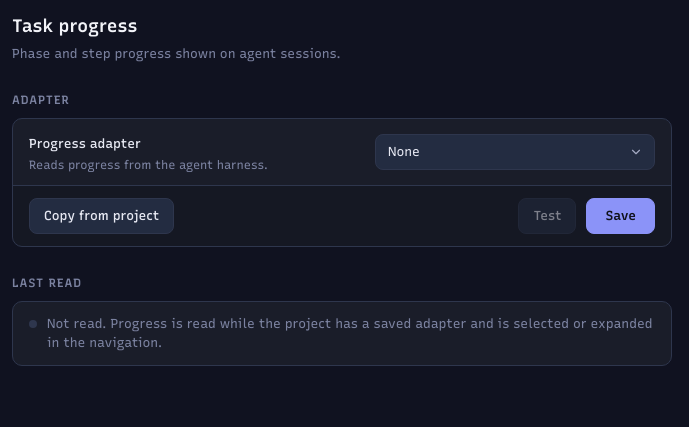
Test case: TaskProgressSettings › Copy from project says when no other project has a binding
The image size is (689, 427).
Click the button with test id "settings-task-progress-copy" at (102, 216), box [29,198,174,234]
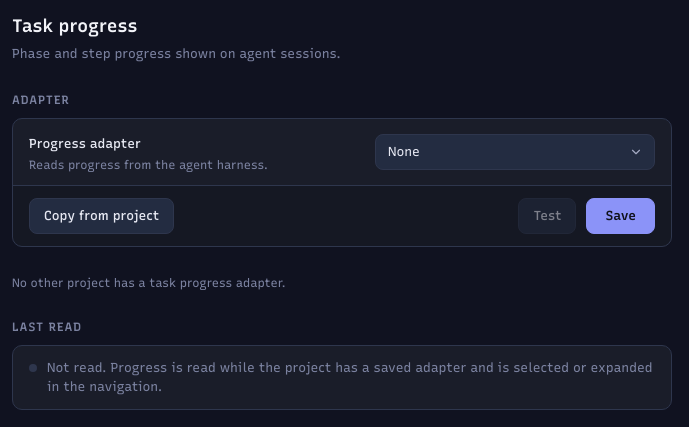
Expected: the element with test id "settings-task-progress-copy-list" shows "No other project", [12,276,286,290]
